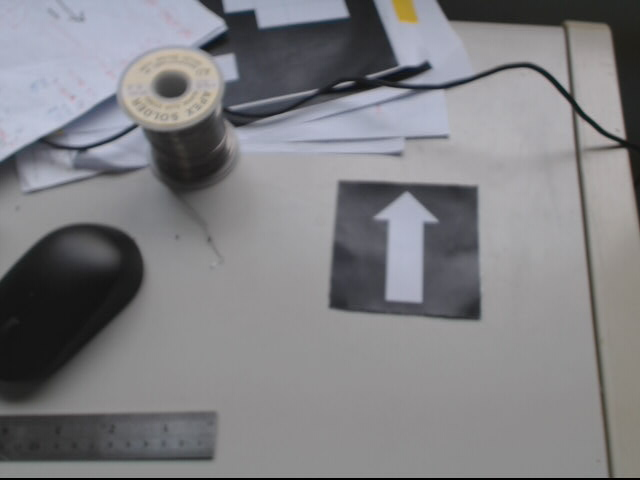straight: (330, 180, 485, 317)
